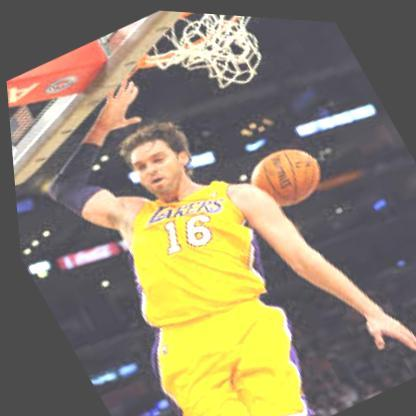basketball: (240, 131, 330, 213)
rim: (120, 6, 284, 122)
